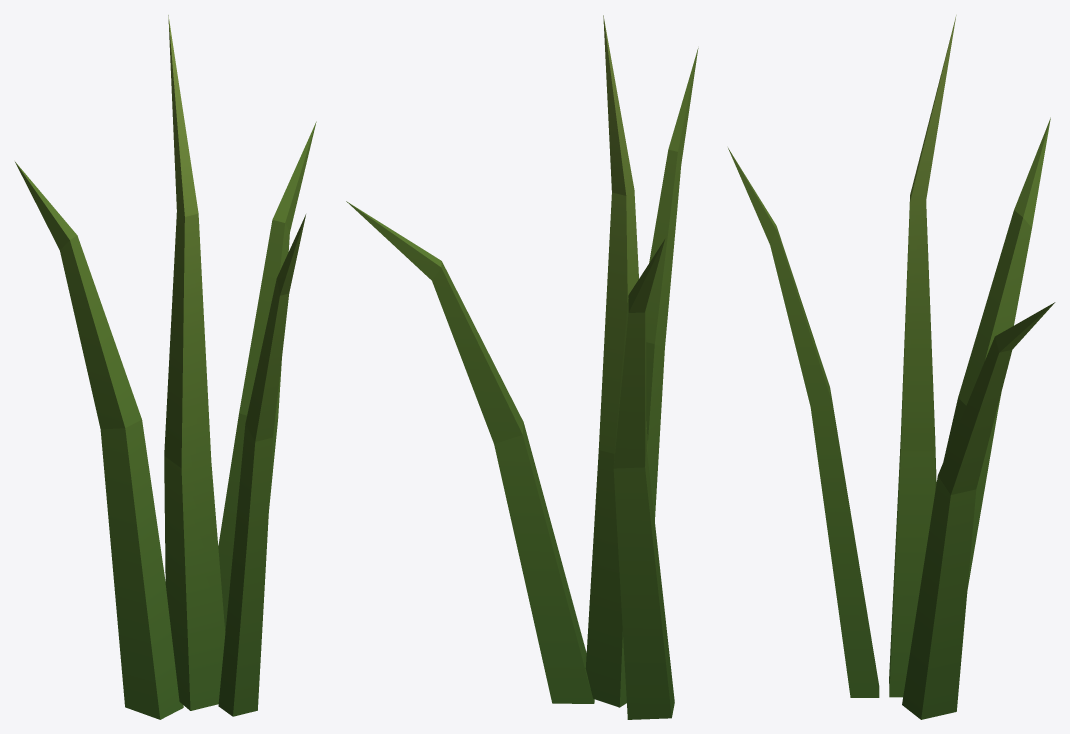
File: Summer_Grass_05.glb
3 renders of one model, left to right at view 1: azimuth 30°, elevation 25°; view 2: azimuth 150°, elevation 25°; view 3: azimuth 270°, elevation 25°, orthographic. The views are drawn at different scales.
Parts seen in each view (by area): view 1: Summer_Grass_05_LOD0; view 2: Summer_Grass_05_LOD0; view 3: Summer_Grass_05_LOD0.
Part boxes in pixels (bbox=[...]): Summer_Grass_05_LOD0: bbox=[15, 15, 316, 719]; Summer_Grass_05_LOD0: bbox=[346, 15, 698, 719]; Summer_Grass_05_LOD0: bbox=[728, 15, 1055, 719].
Size of what is drawn, in the model's own units: 0.2159 by 0.458 by 0.2017.
Materials: 1 (1 with a texture image).
